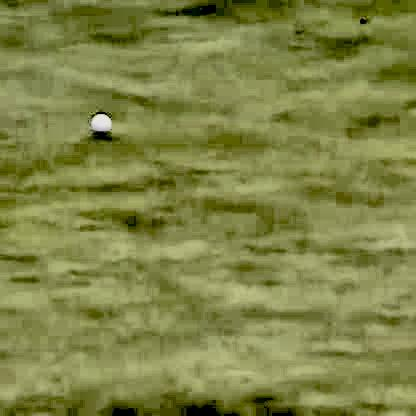golfball: (88, 109, 110, 131)
